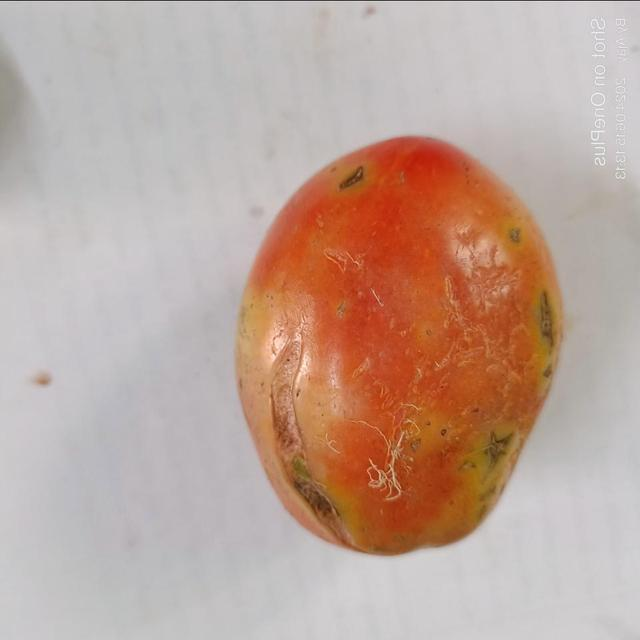Bacterial Spot Fruit: (17, 23, 363, 301)
